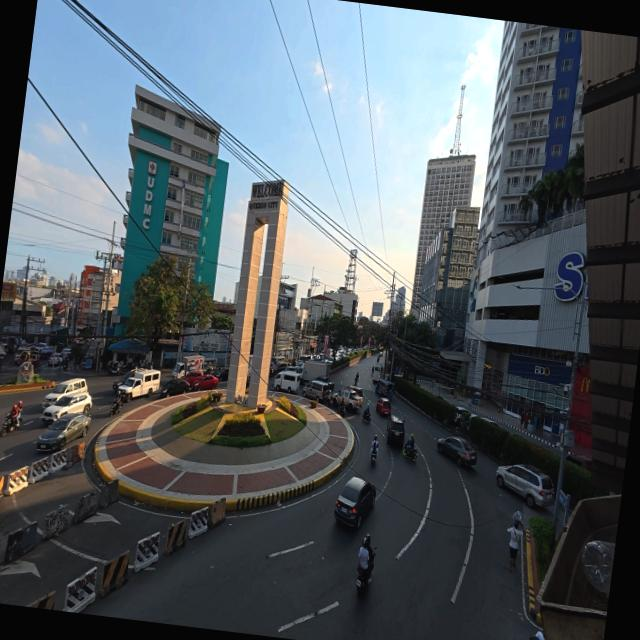car: (490, 459, 556, 508), (331, 474, 379, 534), (437, 433, 482, 470), (384, 418, 406, 449)
